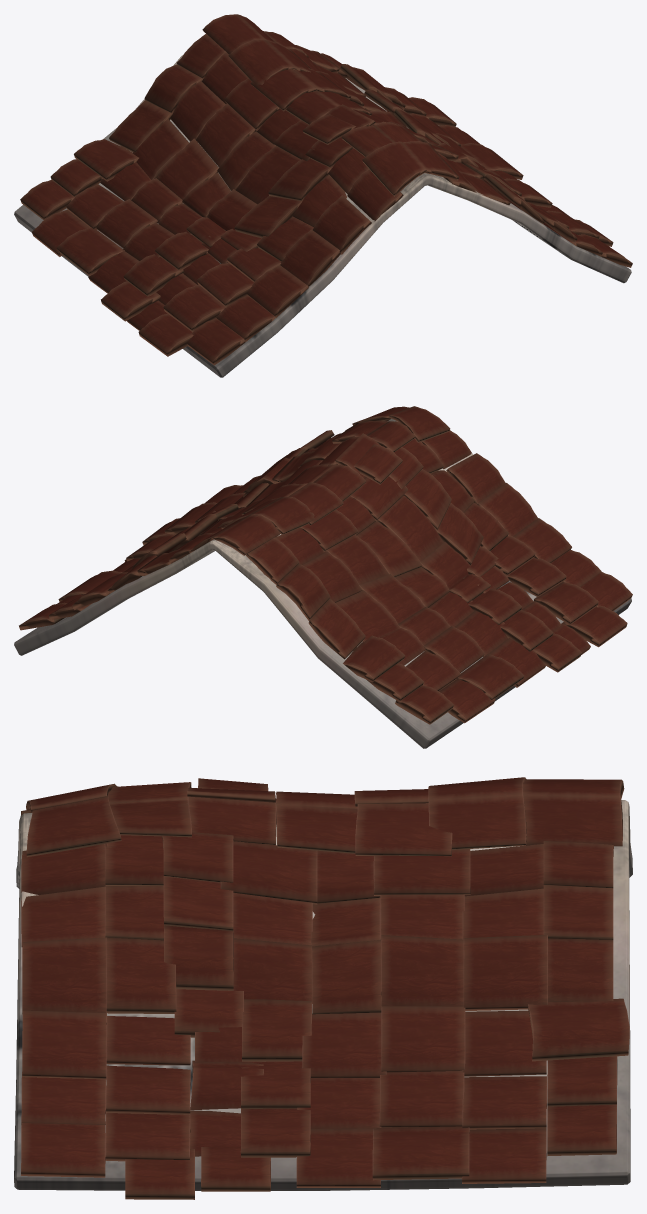
Rendered from Roof_V1.fbx.
3 views of the same model, one above another, from view 1: azimuth 30°, elevation 25°; view 2: azimuth 150°, elevation 25°; view 3: azimuth 270°, elevation 25° (orthographic). The views are drawn at different scales.
Visible parts, largest first — view 1: Roof_Tile1.004; view 2: Roof_Tile1.004; view 3: Roof_Tile1.004.
Part boxes in pixels (x1,y1,x2,y2): Roof_Tile1.004: (14,14,632,377); Roof_Tile1.004: (14,406,632,748); Roof_Tile1.004: (14,777,632,1199).
Size of the model in its own units: 546 by 197 by 426.
